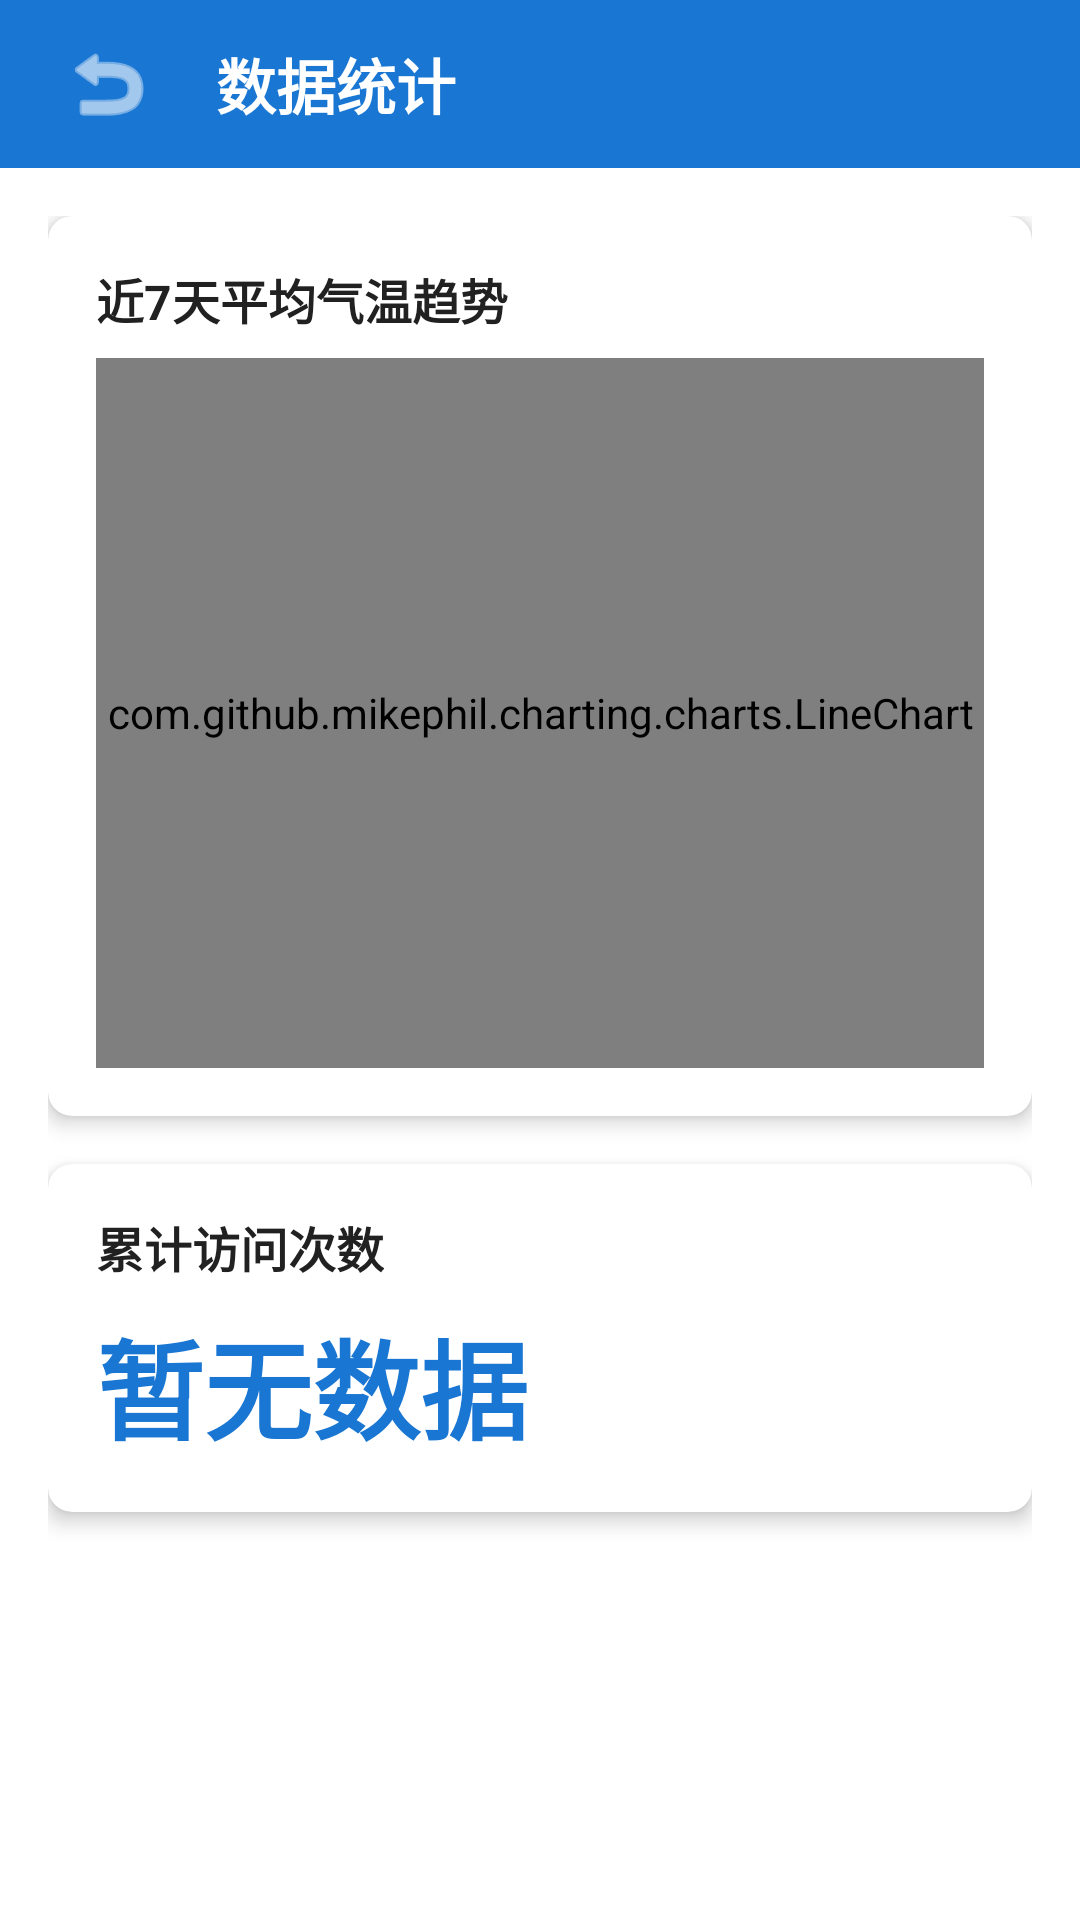

Named icons in this screenshot (1080px x 1920px) and their bounding boxes, (x1, y1, x2, y2):
返回: (75, 53, 144, 116)
